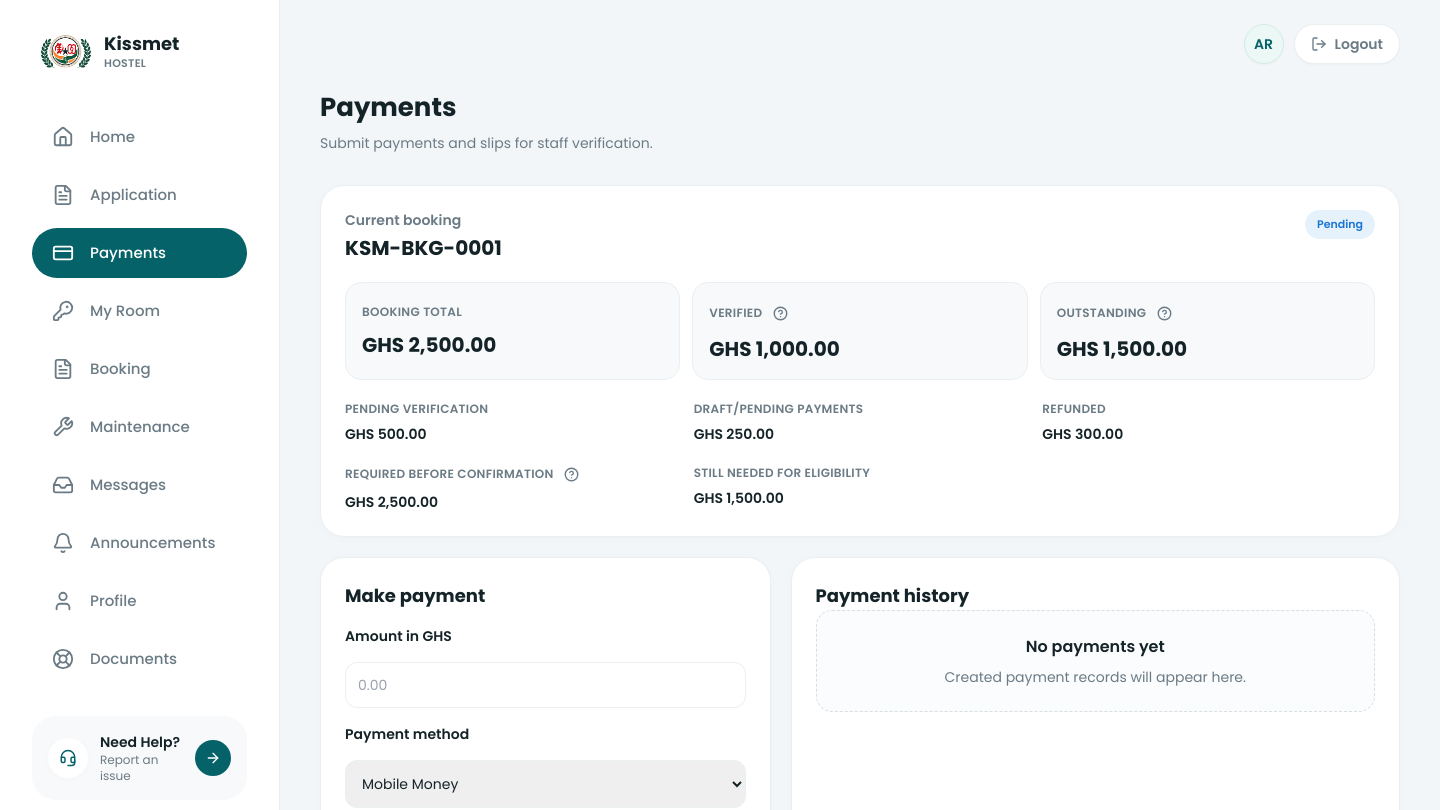
Test: resident payments › creates payment with backend-generated reference and no resident-owned identifiers
Expected: the heading "KSM-BKG-0001" is shown, [345,234,502,262]
In the field labelled "Amount in GHS": [545, 685] box [345,662,746,708], type "750"
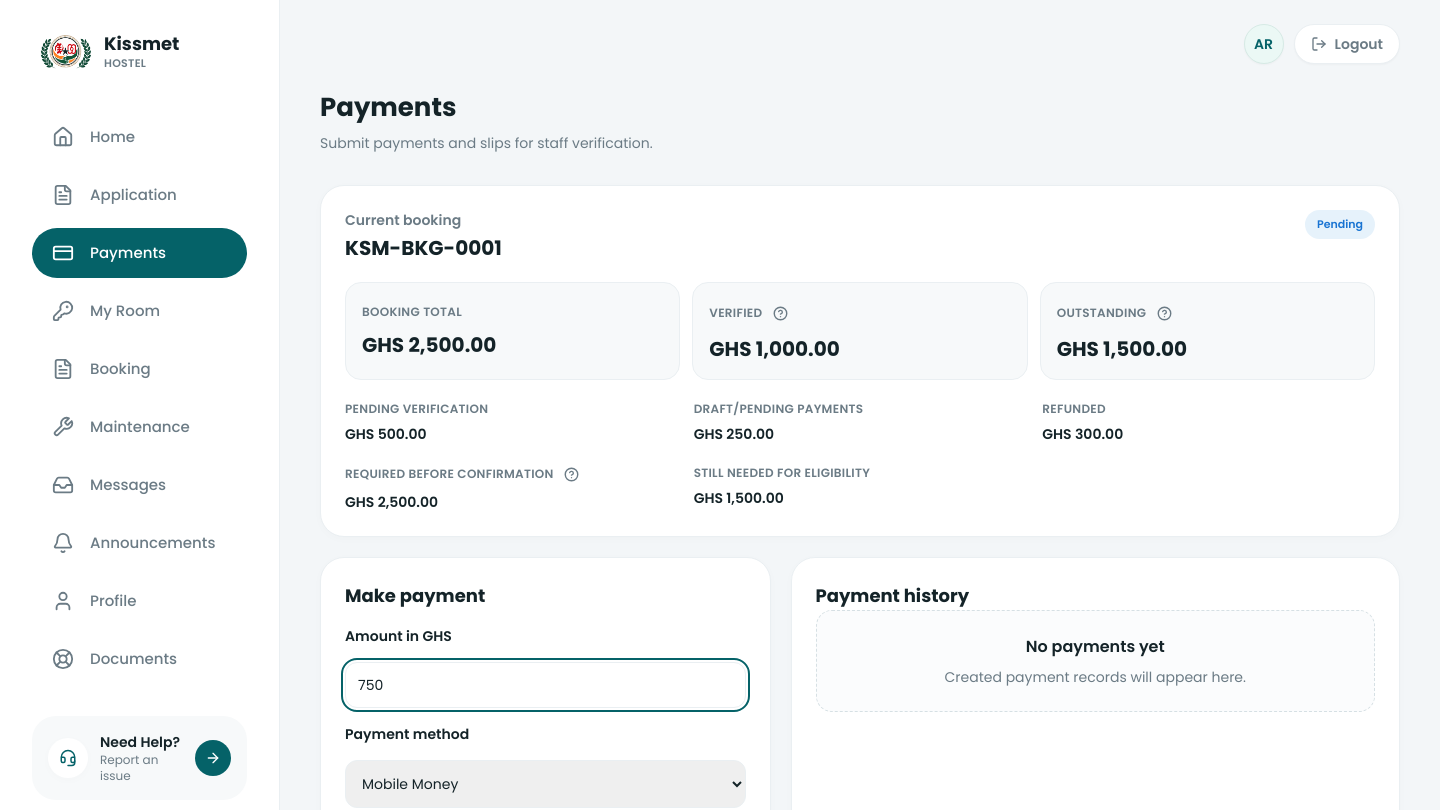
Select "Mobile Money" in the dropdown labelled "Payment method": [545, 784] box [345,760,746,808]
(page scrolled)
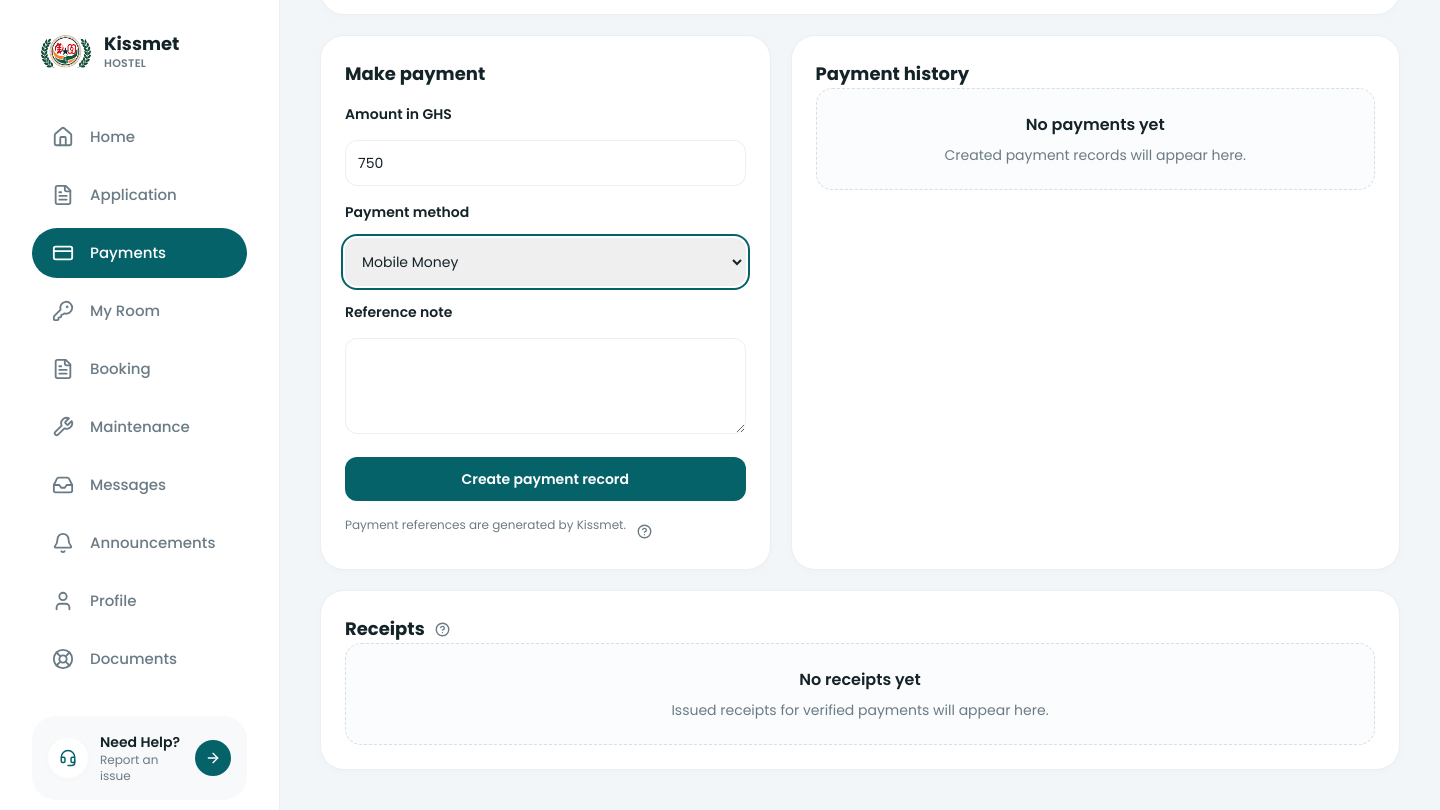
Click the button "Create payment record": [545, 479] box [345,457,746,501]
(page scrolled)
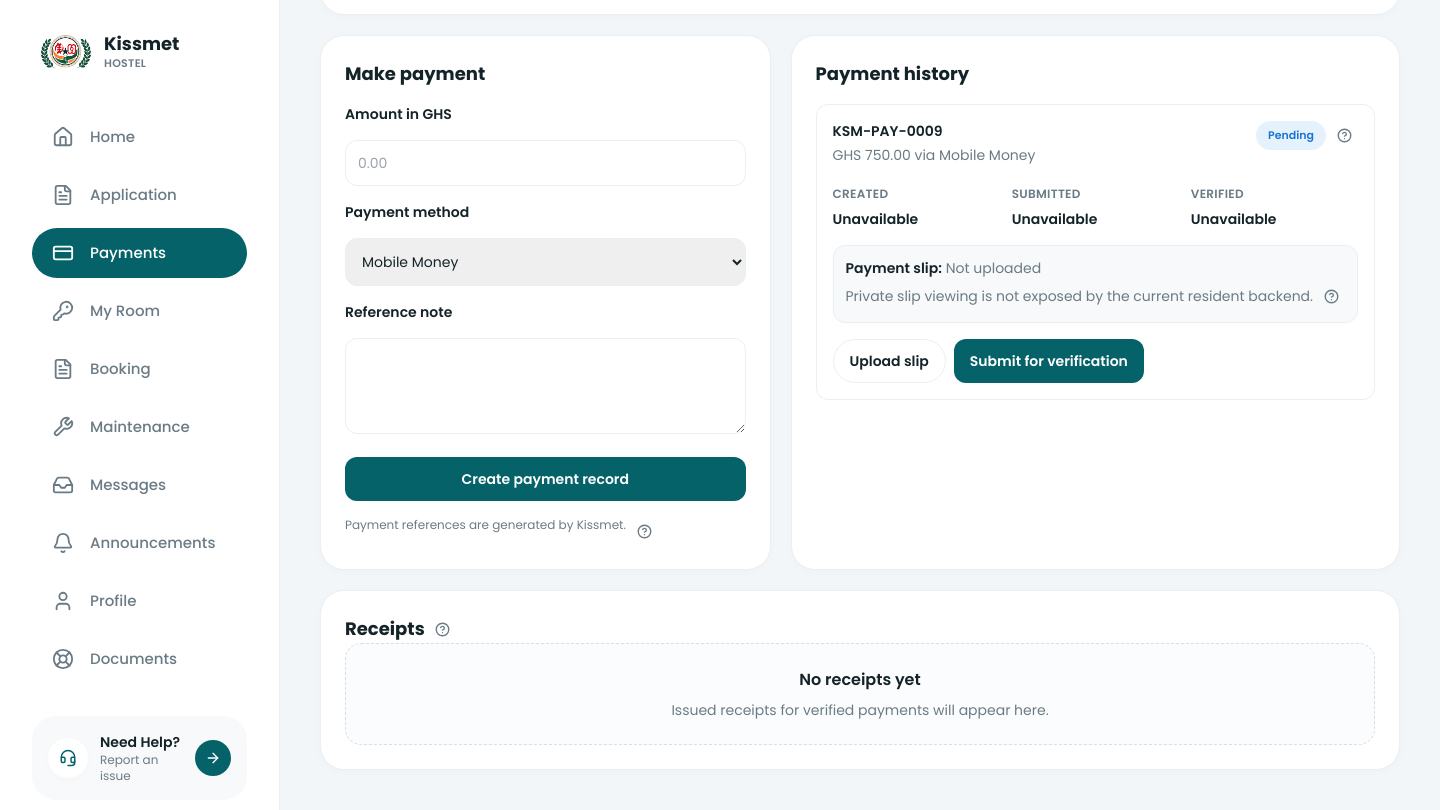
Expected: the text "KSM-PAY-0009" is shown, [832,121,943,141]
